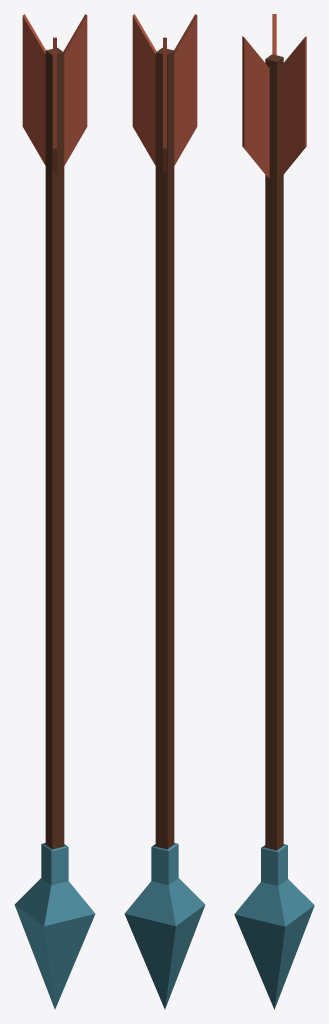
Rendered from Arrow.fbx.
The picture shows the model from 3 angles, left to right: view 1: azimuth 30°, elevation 25°; view 2: azimuth 150°, elevation 25°; view 3: azimuth 330°, elevation 25°; orthographic projection.
Parts seen in each view (by area): view 1: Arrow; view 2: Arrow; view 3: Arrow.
Part boxes in pixels (x1,y1,x2,y2): Arrow: [14, 14, 95, 1009]; Arrow: [124, 14, 205, 1009]; Arrow: [234, 14, 314, 1009].
Size of the model in its own units: 3.43 by 56.75 by 3.37.
